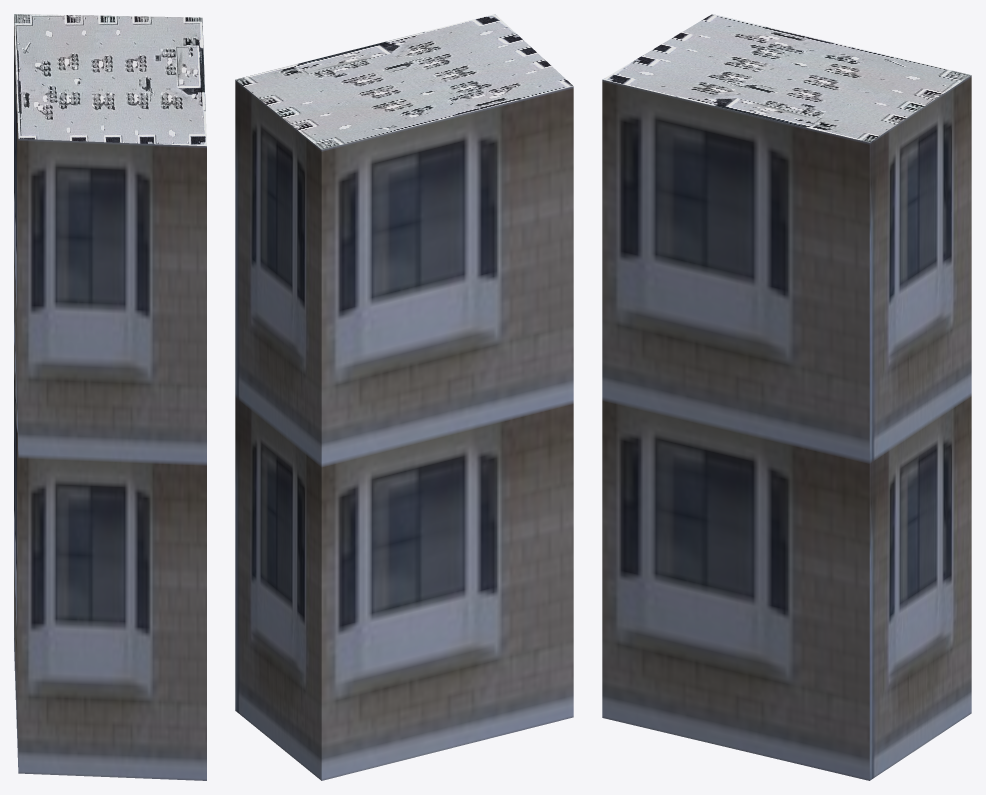
The model's file is ResTex__772.fbx.
3 views of the same model, side by side, from view 1: azimuth 30°, elevation 25°; view 2: azimuth 150°, elevation 25°; view 3: azimuth 270°, elevation 25° (orthographic).
Visible parts, largest first — view 1: CityEngineMaterial_3_m, CityEngineMaterial_4_m; view 2: CityEngineMaterial_3_m, CityEngineMaterial_4_m; view 3: CityEngineMaterial_3_m, CityEngineMaterial_4_m.
Boxes of the visible parts, <box> form: CityEngineMaterial_3_m: <box>14,17,206,780</box>; CityEngineMaterial_4_m: <box>14,14,206,146</box>; CityEngineMaterial_3_m: <box>235,80,573,780</box>; CityEngineMaterial_4_m: <box>235,14,573,149</box>; CityEngineMaterial_3_m: <box>602,75,971,780</box>; CityEngineMaterial_4_m: <box>603,14,971,142</box>.
Size of the model in its own units: 2.6 by 6 by 3.15.
Materials: 2 (2 with a texture image).
